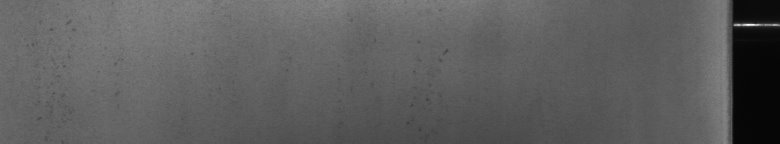ib: (37, 16, 120, 121)
